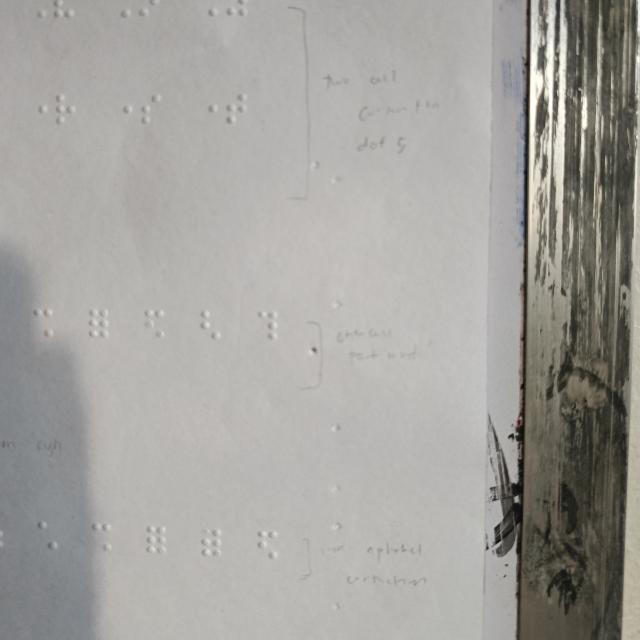dot_5: (113, 94, 134, 124), (28, 94, 48, 124), (199, 93, 219, 123)
kanila: (37, 521, 58, 550)
mag: (33, 308, 53, 338)
maging: (91, 523, 112, 552)
mahal: (89, 309, 109, 339), (146, 525, 166, 554)
na: (201, 527, 222, 556)
nag: (143, 309, 163, 339)
naging: (257, 530, 278, 560)
ng: (200, 310, 220, 340)
pag: (257, 311, 278, 341)
roon: (55, 95, 76, 124)
subalit: (141, 94, 161, 124)
talaga: (225, 93, 248, 125)
